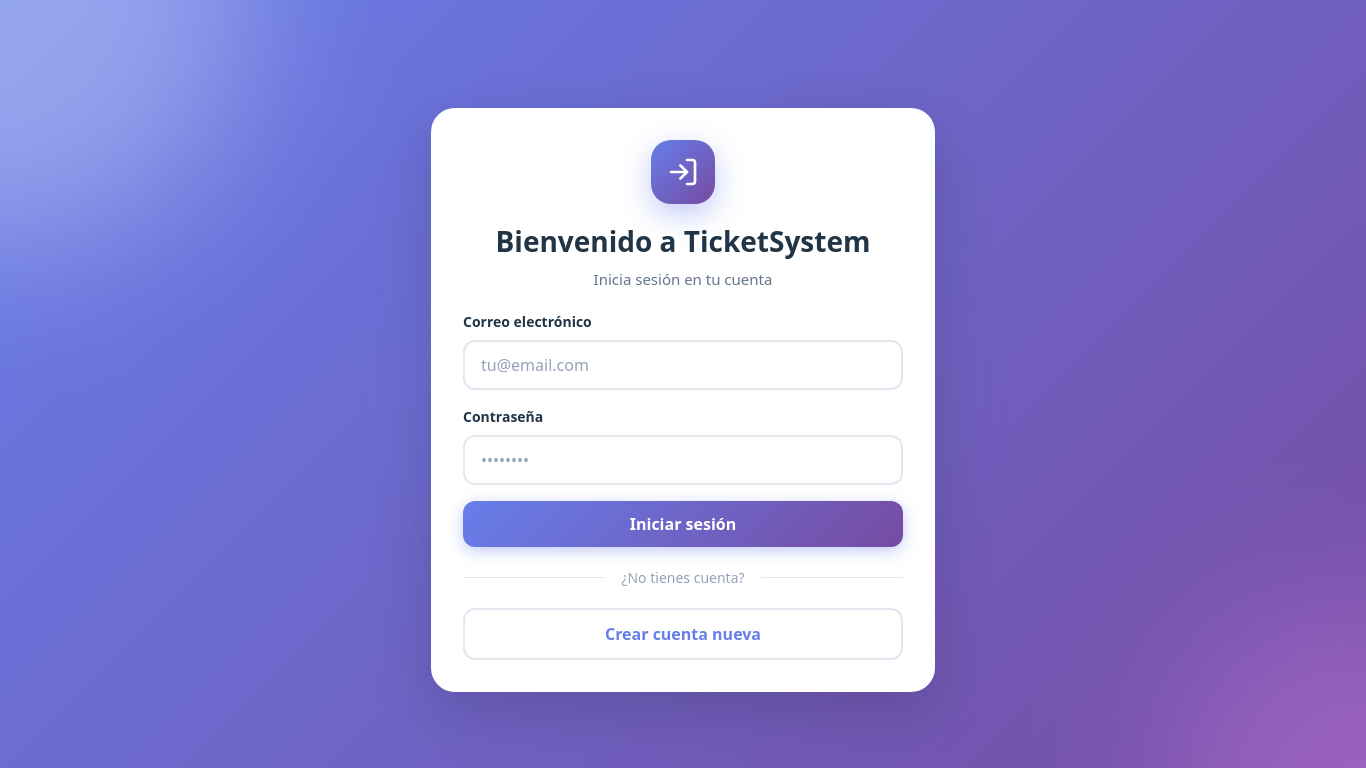
Test case: Login Page › displays friendly message on 401 AxiosError
This screenshot has width=1366, height=768.
Type "test@test.com" into the field labelled "Correo electrónico" at x=683, y=365, box x1=463 y1=340 x2=903 y2=390
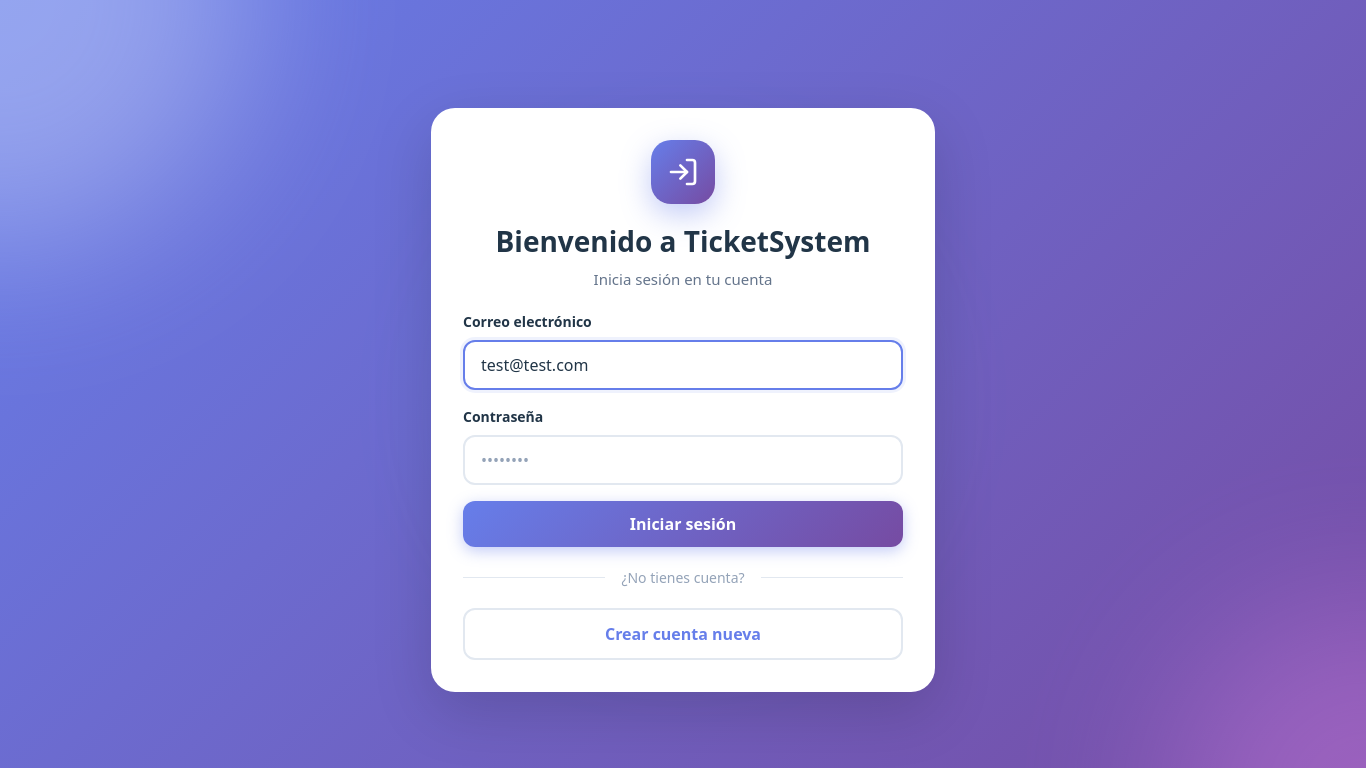
Type "wrong" into the password field labelled "Contraseña" at x=683, y=460, box x1=463 y1=435 x2=903 y2=485
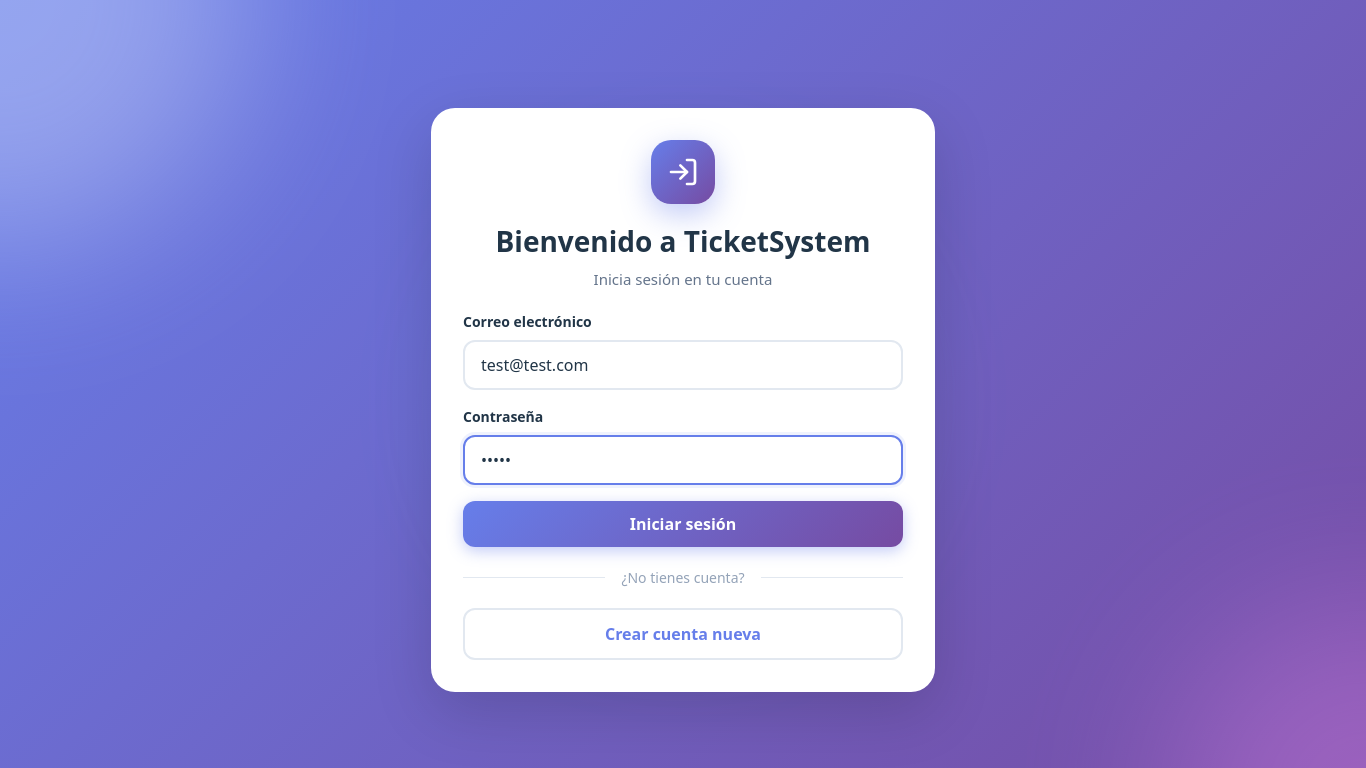
Click the button "Iniciar sesión" at x=683, y=524, box x1=463 y1=501 x2=903 y2=547
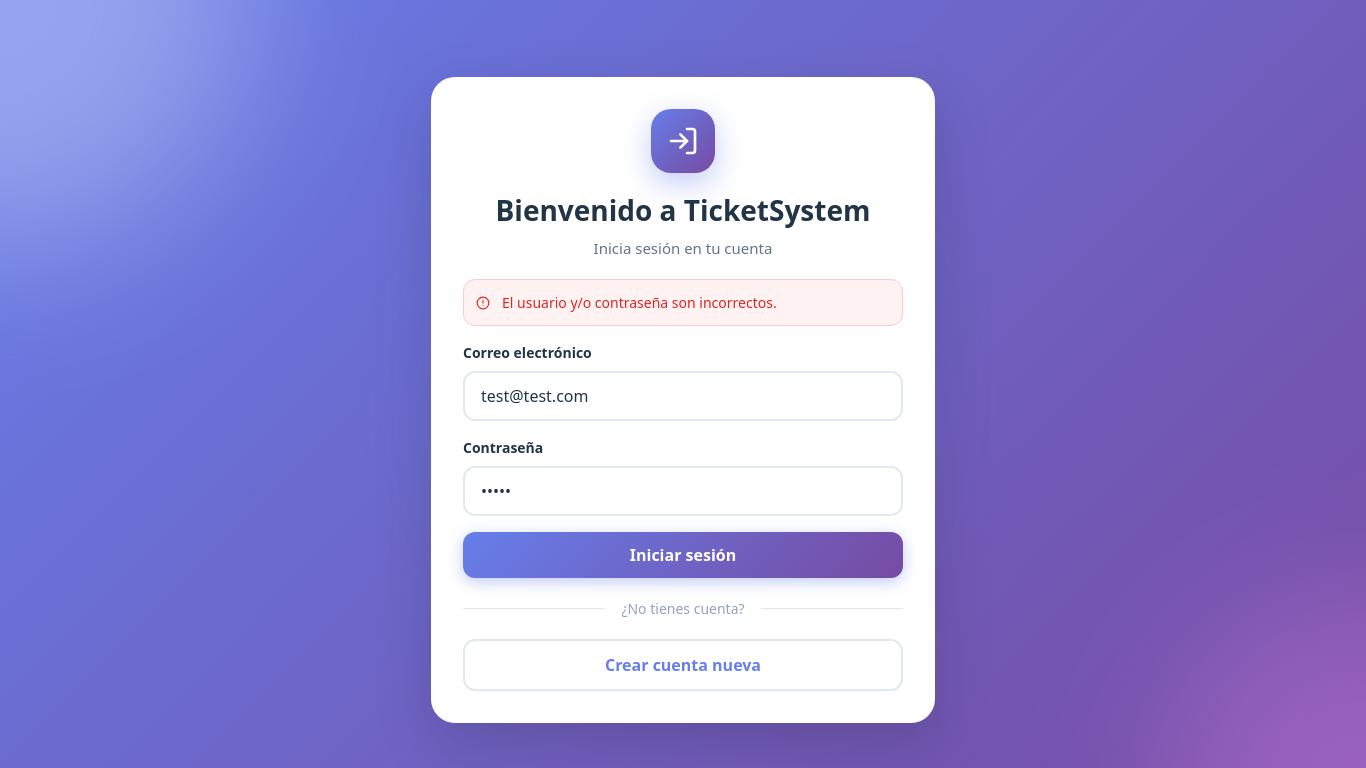
Result: the text "El usuario y/o contraseña son incorrectos." is shown at x1=463 y1=279 x2=903 y2=326
